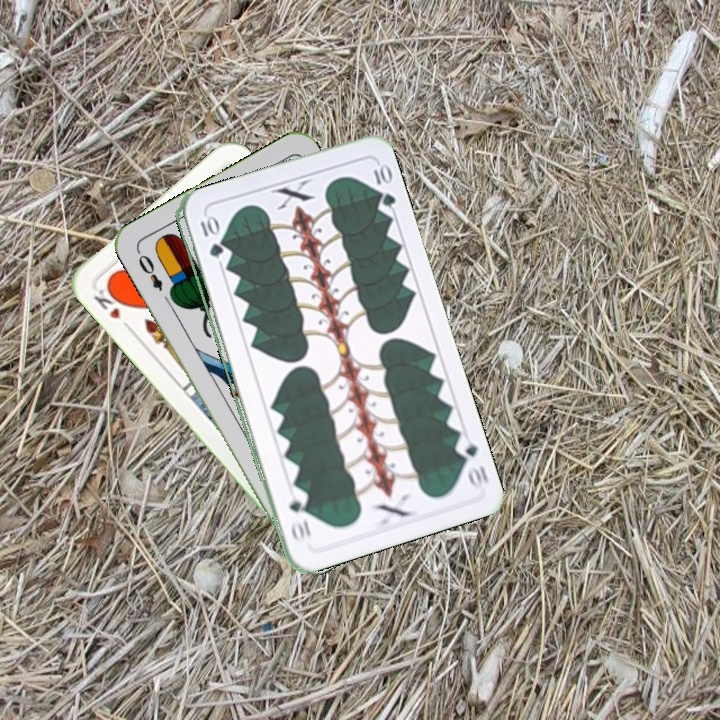EO: (132, 246, 165, 294)
G10: (451, 432, 491, 489), (196, 212, 223, 261)
HK: (89, 281, 134, 334)
